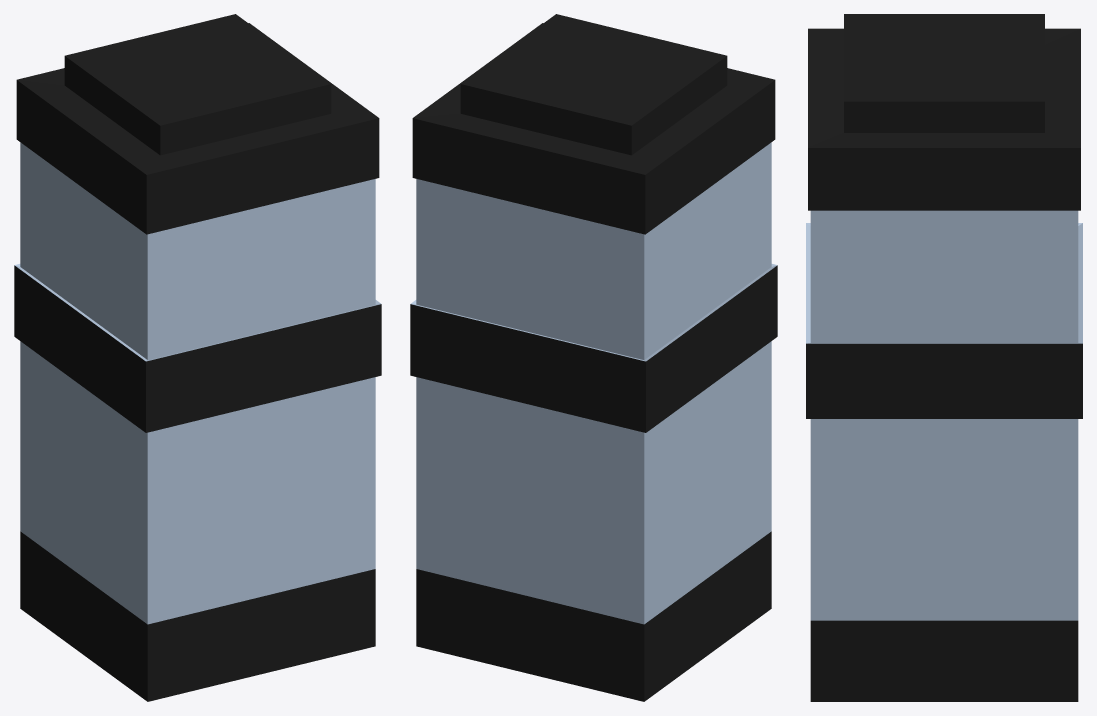
File: building2.glb
3 views of the same model, side by side, from view 1: azimuth 30°, elevation 25°; view 2: azimuth 150°, elevation 25°; view 3: azimuth 270°, elevation 25° (orthographic). The views are drawn at different scales.
Visible parts, largest first — view 1: Cube.001; view 2: Cube.001; view 3: Cube.001.
Boxes of the visible parts, x1,y1,x2,y2 form: Cube.001: (14,14,381,701); Cube.001: (410,14,777,701); Cube.001: (806,14,1082,701).
Size of the model in its own units: 3.33 by 7.52 by 3.22.
